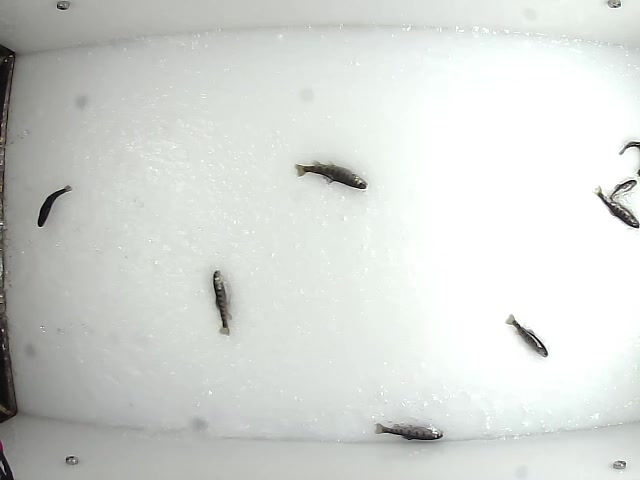fish: (291, 159, 369, 192), (591, 183, 640, 229), (504, 311, 550, 358), (34, 183, 75, 229), (371, 421, 443, 443), (208, 270, 231, 335), (607, 177, 636, 202)
